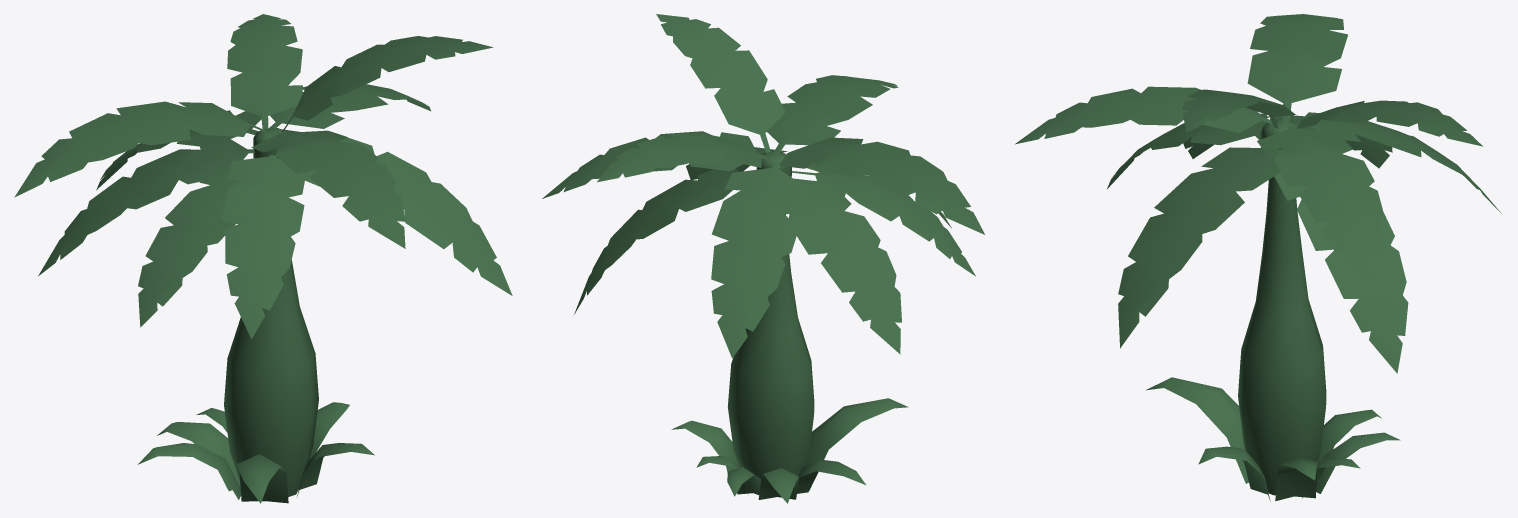
The model's file is S_PalmTree_01.fbx.
The picture shows the model from 3 angles, left to right: view 1: azimuth 30°, elevation 25°; view 2: azimuth 150°, elevation 25°; view 3: azimuth 270°, elevation 25°; orthographic projection. The views are drawn at different scales.
Visible parts, largest first — view 1: S_PalmTree_01; view 2: S_PalmTree_01; view 3: S_PalmTree_01.
Boxes of the visible parts, x1,y1,x2,y2 form: S_PalmTree_01: (14, 14, 512, 503); S_PalmTree_01: (542, 14, 984, 503); S_PalmTree_01: (1015, 14, 1501, 501).
Bounding box in the file's own units: 12.55 × 11.73 × 11.76.
